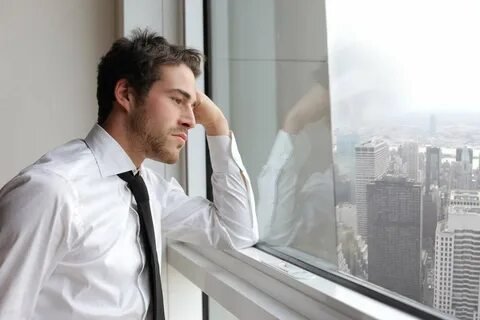awake: (1, 23, 260, 320)
